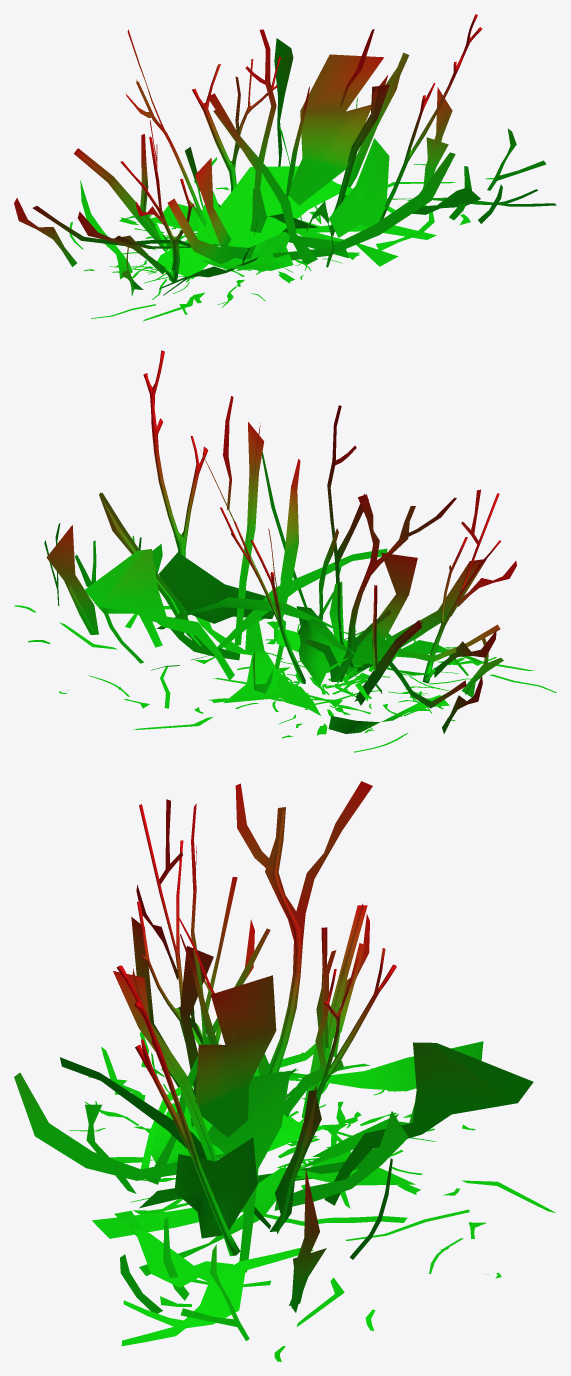
Rendered from Dead Shrubs_LOD0_Var7_vdknbbuha.fbx.
3 views of the same model, one above another, from view 1: azimuth 30°, elevation 25°; view 2: azimuth 150°, elevation 25°; view 3: azimuth 270°, elevation 25° (orthographic). The views are drawn at different scales.
Parts seen in each view (by area): view 1: _p33e_Var7_LOD0; view 2: _p33e_Var7_LOD0; view 3: _p33e_Var7_LOD0.
Part boxes in pixels (<box>): _p33e_Var7_LOD0: <box>14,14,556,321</box>; _p33e_Var7_LOD0: <box>14,350,556,752</box>; _p33e_Var7_LOD0: <box>14,781,555,1361</box>.
Size of the model in its own units: 101 by 50.27 by 66.82.
